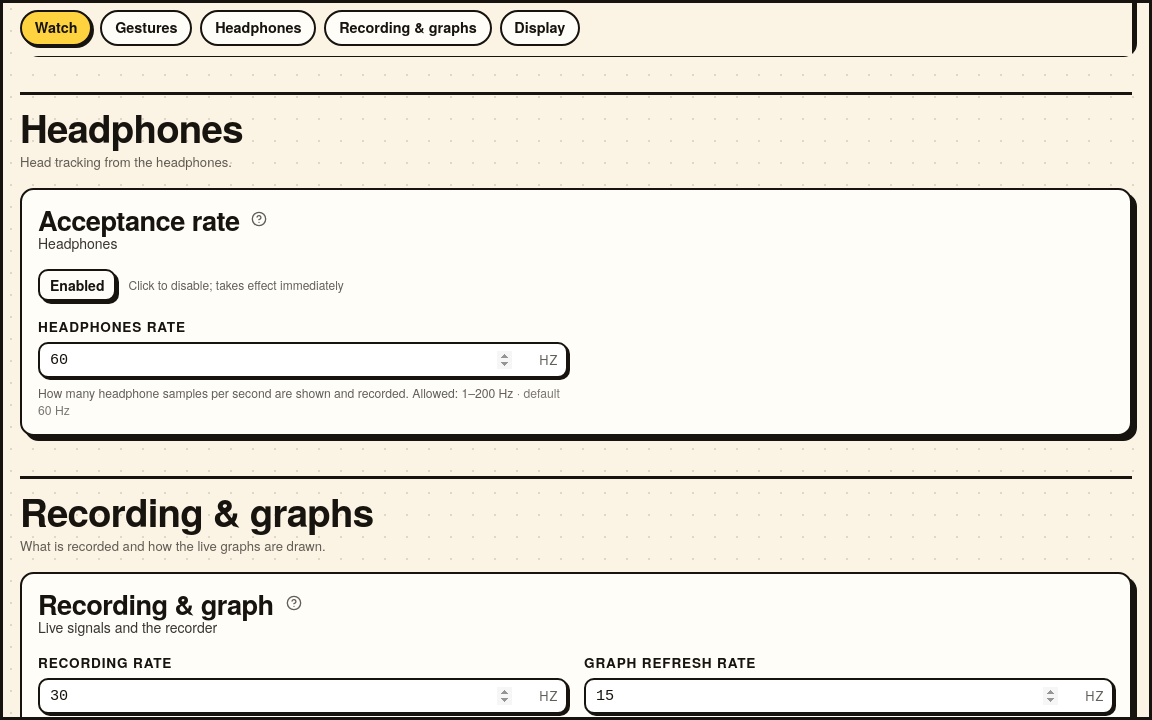
Test: Settings › discards edits and their errors
(page scrolled)
Replace the text in the number field labelled "Headphones rate" with "999" at (303, 360), box [38, 342, 568, 378]
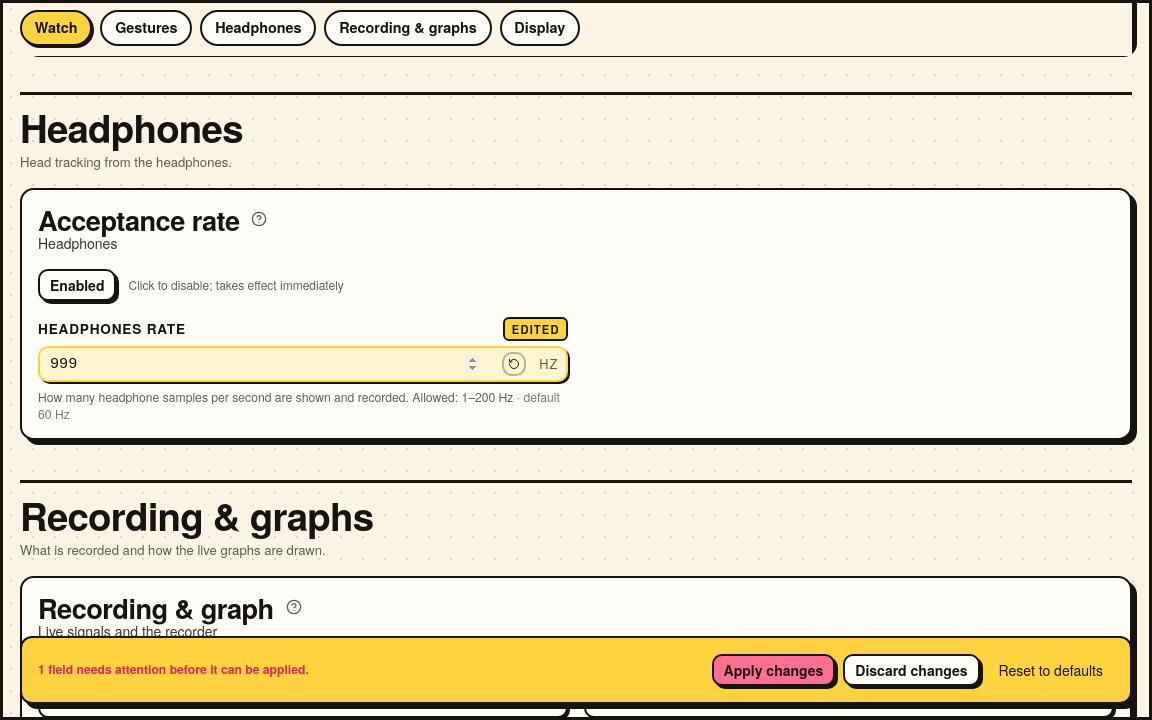
Click the button "Apply changes" at (773, 670), box [712, 654, 835, 686]
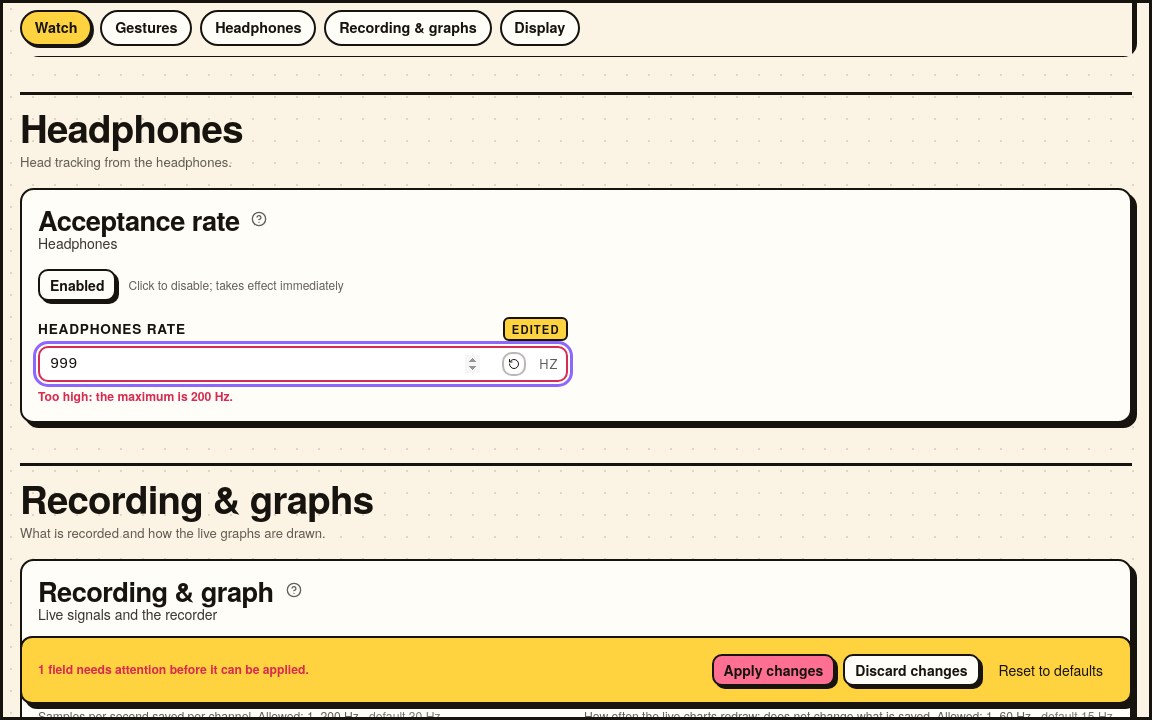
Click the button "Discard changes" at (911, 670), box [843, 654, 980, 686]
(page scrolled)
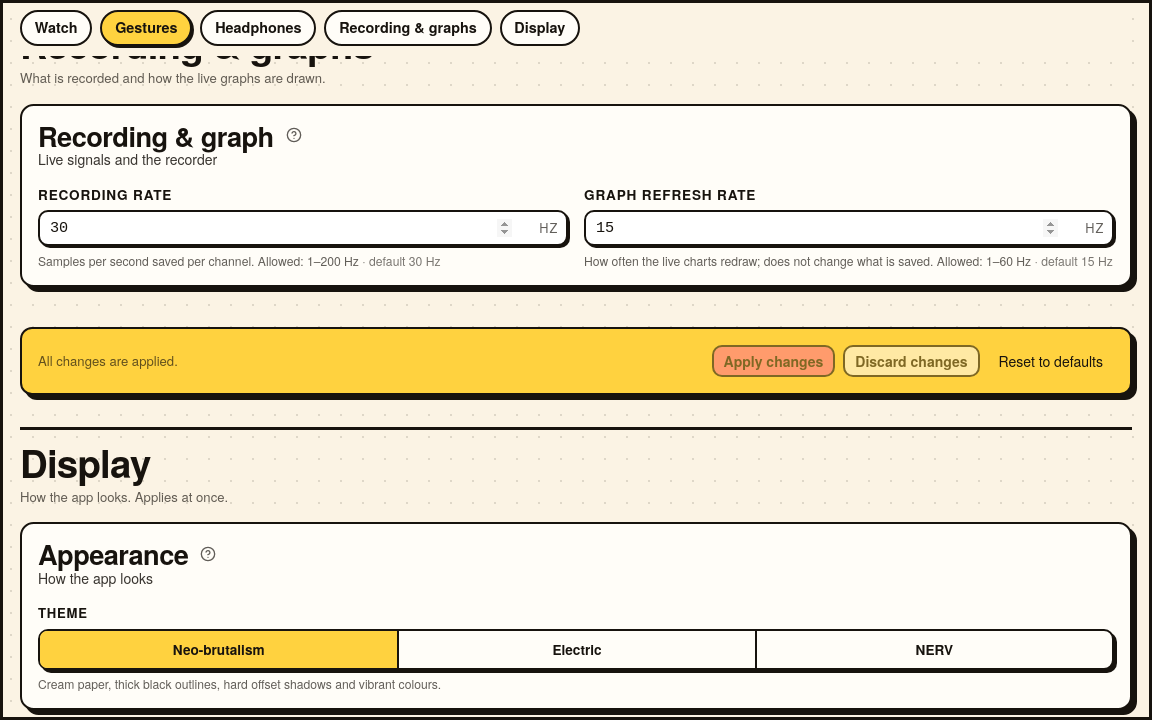
Now the text "All changes are applied." is shown, box [38, 352, 178, 370]
